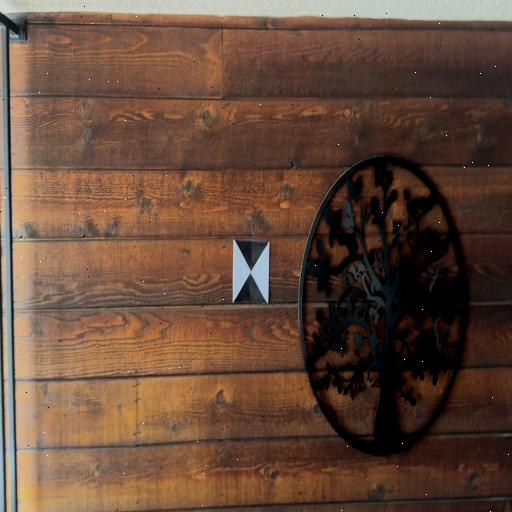target: (232, 240, 269, 303)
